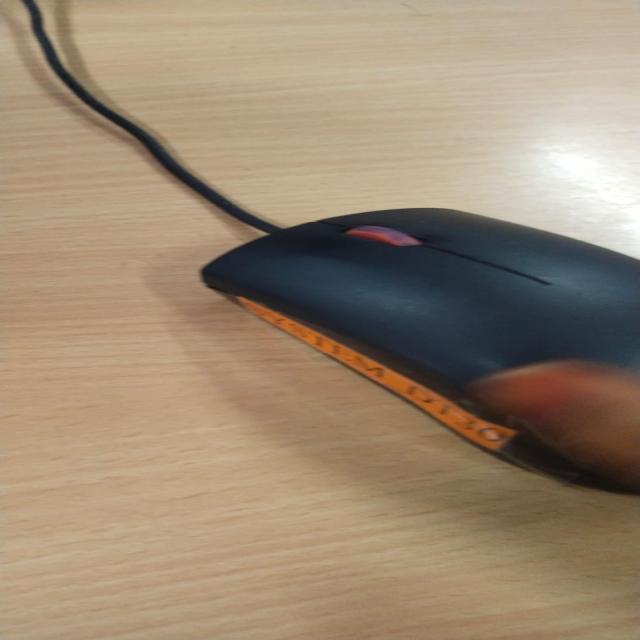mouse: (165, 168, 640, 608), (519, 378, 539, 401)
